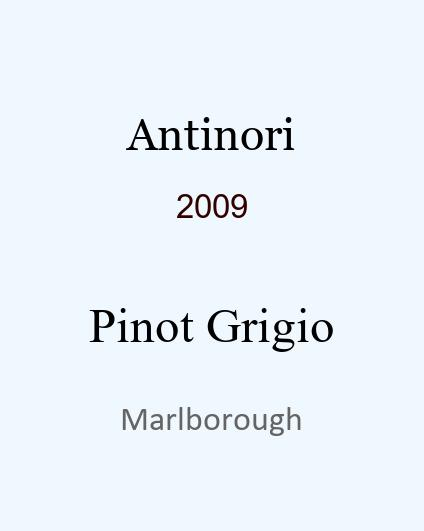brand: (127, 108, 296, 141)
region: (120, 404, 303, 433)
variety: (89, 298, 335, 342)
vintage: (176, 188, 248, 212)
